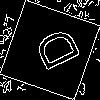D: (25, 25, 82, 78)
